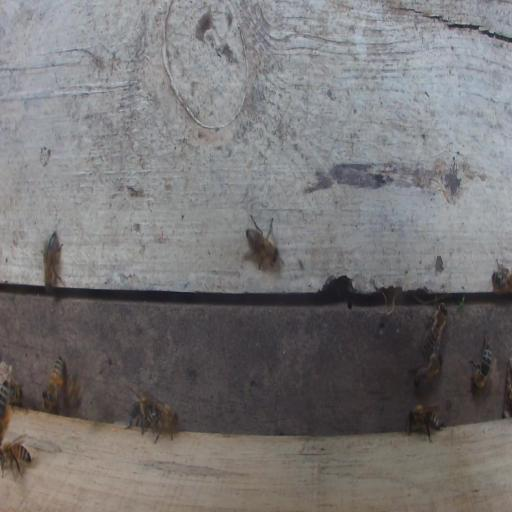nonpollenbee: (242, 210, 285, 271), (143, 390, 180, 446), (407, 348, 444, 394), (41, 228, 65, 295), (0, 433, 32, 480), (408, 402, 443, 443), (468, 332, 492, 391), (123, 383, 151, 433), (424, 295, 448, 353), (491, 258, 505, 298)
pollen: (5, 409, 10, 425), (59, 378, 64, 387)
pollenbee: (47, 356, 64, 404), (0, 378, 11, 439)
